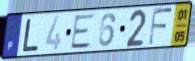2: (126, 8, 149, 49)
4: (43, 15, 63, 53)
6: (97, 12, 117, 48)
E: (69, 12, 97, 51)
F: (147, 7, 174, 48)
L: (21, 18, 40, 53)
